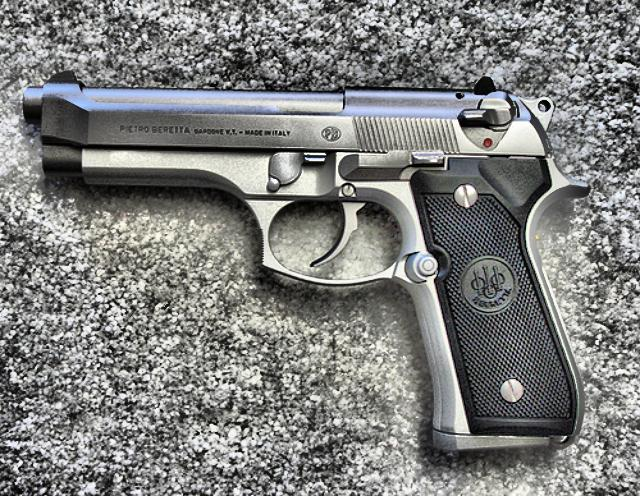pistol: (23, 66, 590, 454)
